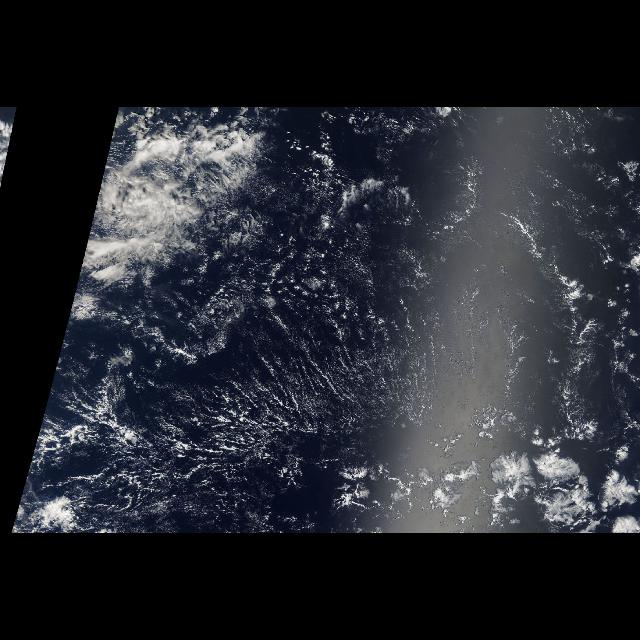Fish: (69, 108, 257, 320)
Flower: (322, 439, 640, 533)
Sugar: (96, 243, 640, 472)
